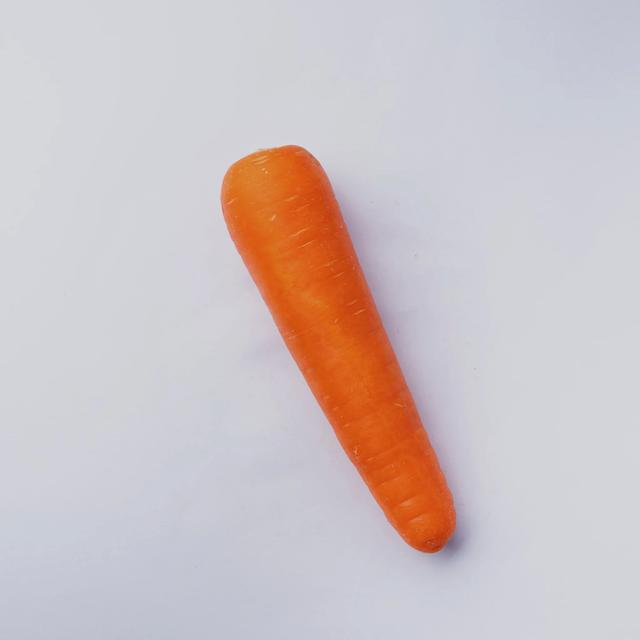carrot: (221, 146, 455, 552)
